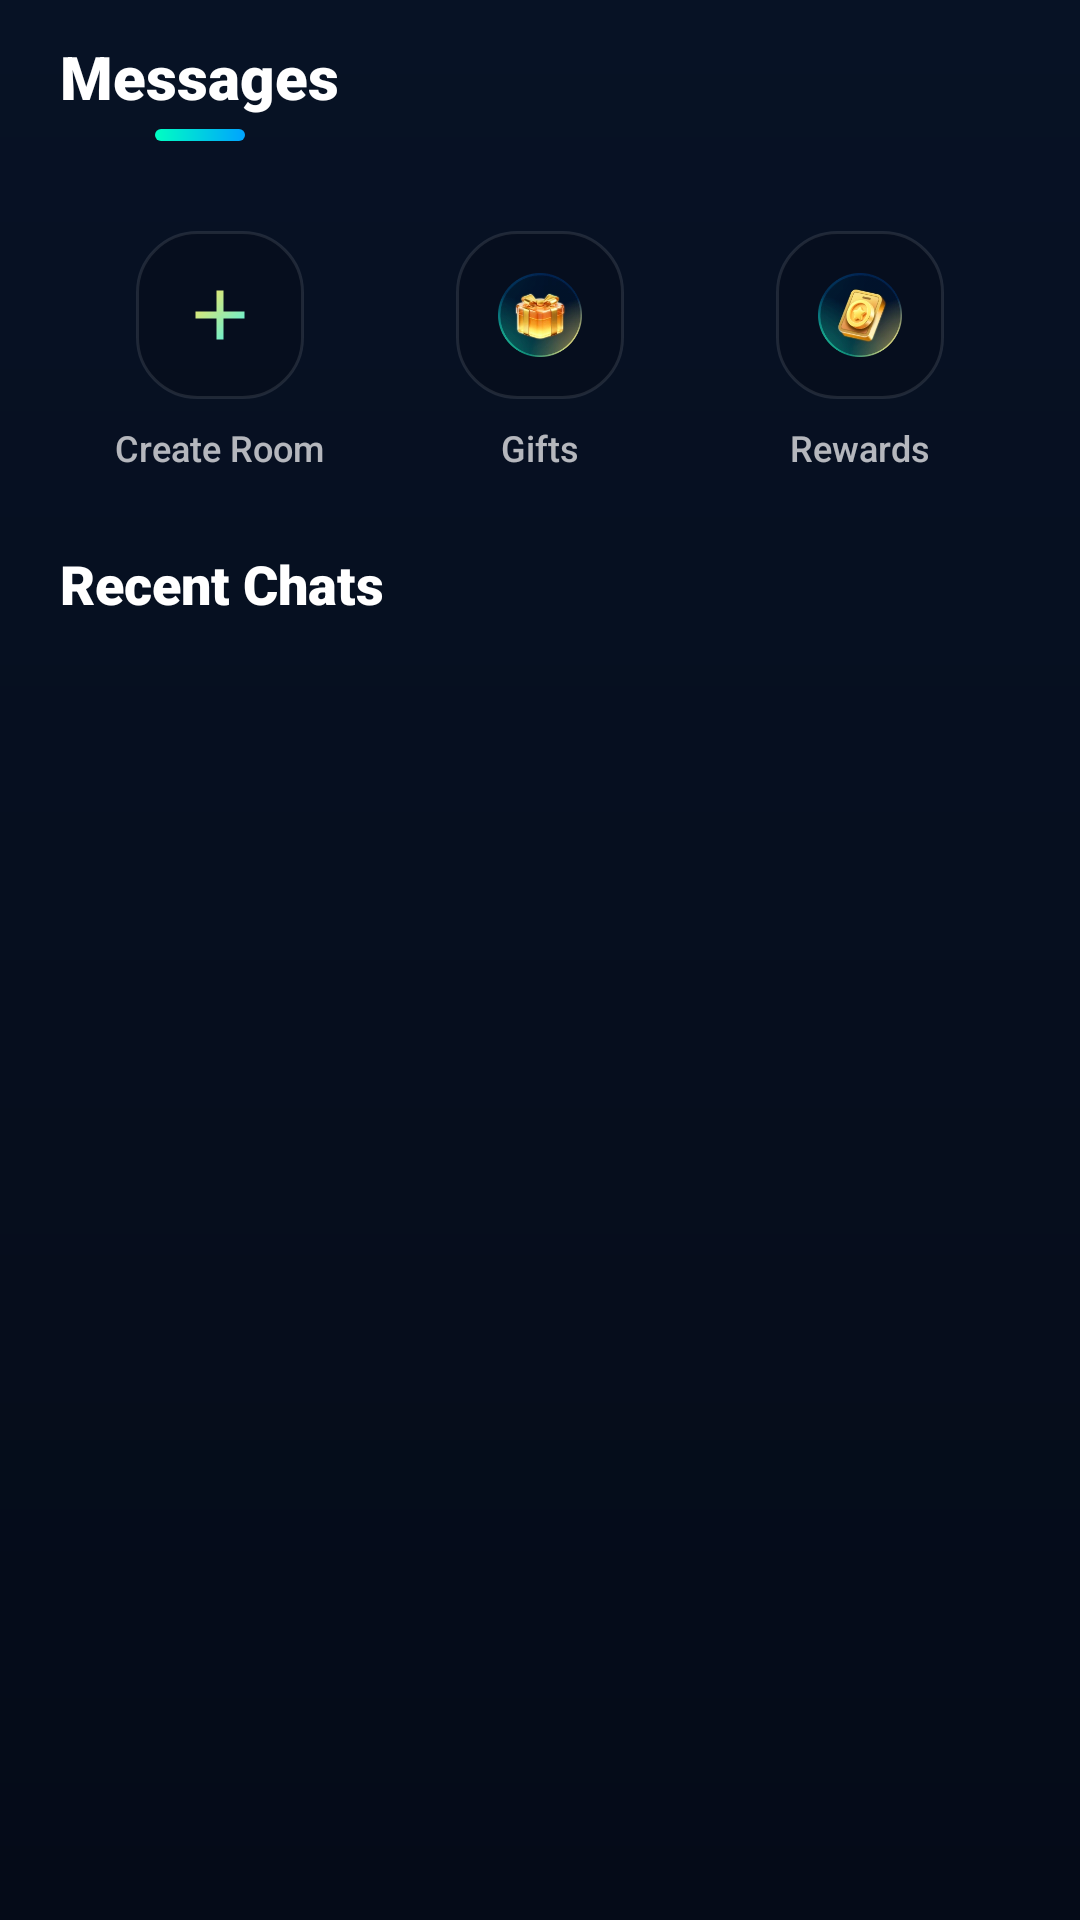

Icons on this 1080px×1920px Android screen, each with its box as box=[x1, y1, x2, y2]:
message home entry gift: box=[498, 273, 582, 357]
message home entry reward: box=[818, 273, 902, 357]
